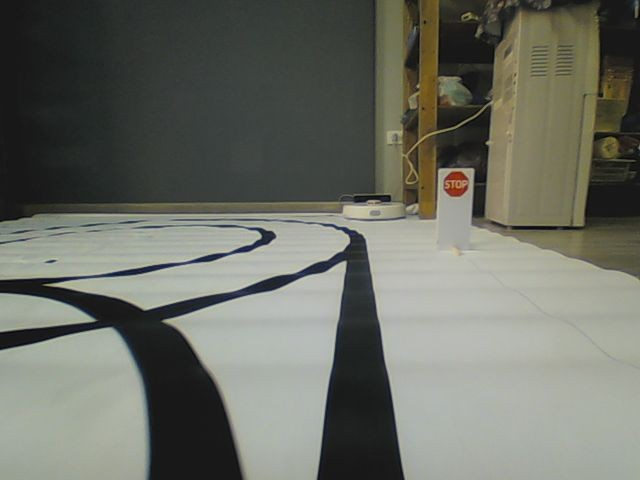Stop: (443, 170, 469, 198)
